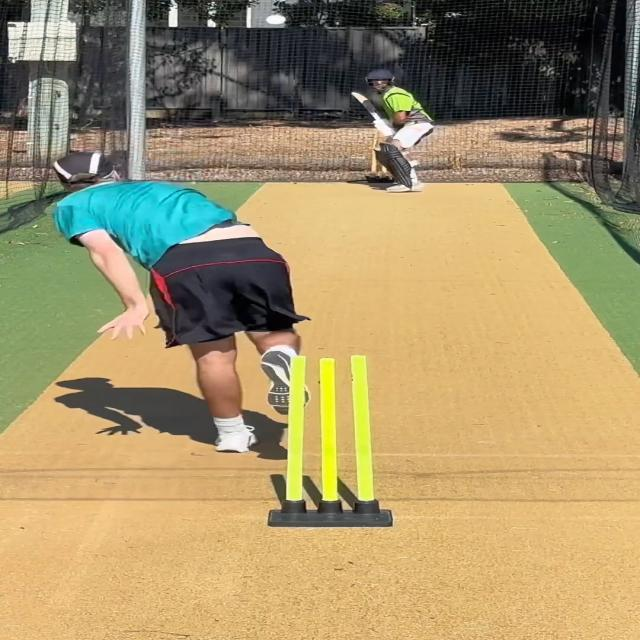ball: (264, 14, 288, 26)
stump: (267, 355, 393, 528)
